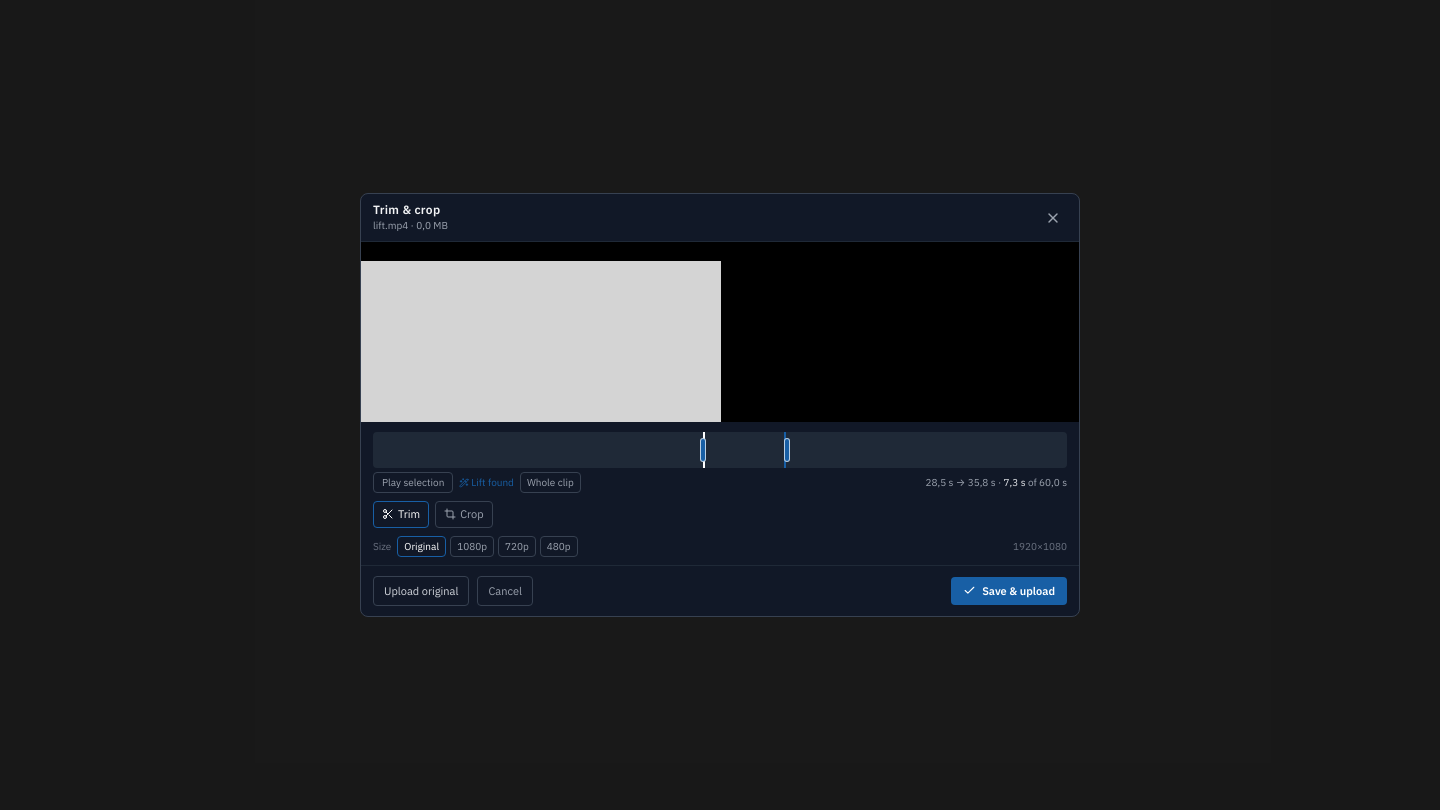
ClipEditor › brackets the lift for the athlete and offers the whole clip back
Expected: the text "Lift found" is shown, x1=459 y1=475 x2=514 y2=490
Expected: the text "28,5 s → 35,8 s · 7,3 s of 60,0 s" is shown, x1=925 y1=475 x2=1067 y2=490
Click the button "Whole clip".
click(550, 482)  # box x1=520 y1=472 x2=581 y2=493
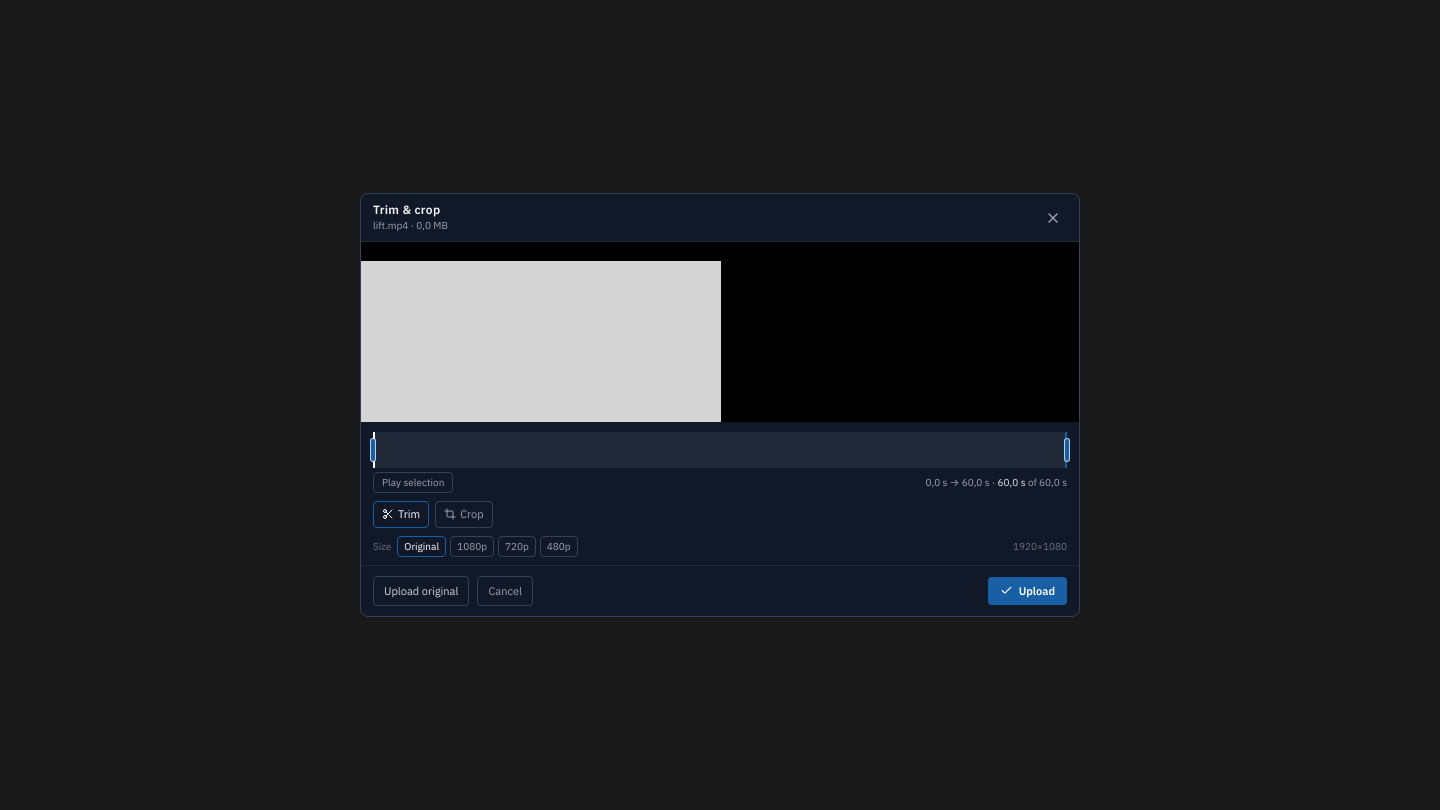
Now the text "0,0 s → 60,0 s · 60,0 s of 60,0 s" is shown, box x1=925 y1=475 x2=1067 y2=490
Now the text "Lift found" is gone
